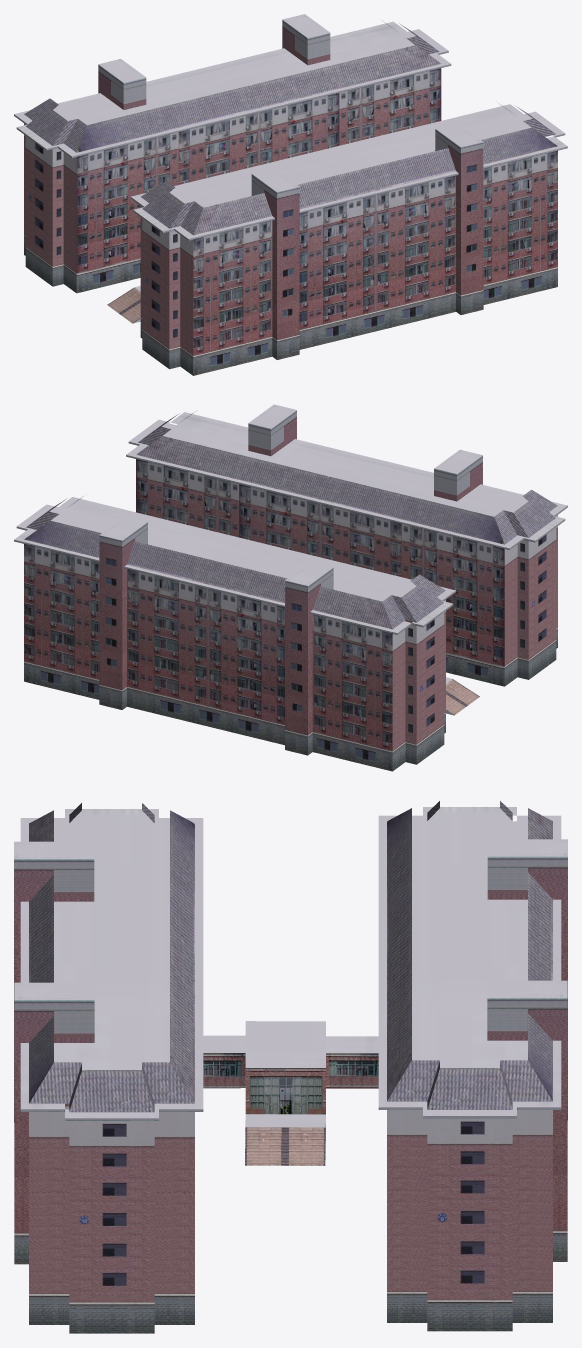
3 renders of one model, top to bottom at view 1: azimuth 30°, elevation 25°; view 2: azimuth 150°, elevation 25°; view 3: azimuth 270°, elevation 25°, orthographic. The views are drawn at different scales.
Visible parts, largest first — view 1: Mesh02#30, Mesh01#28, Mesh05#19, Mesh03#24, Mesh06#17, Mesh07#16, Mesh04#20; view 2: Mesh01#28, Mesh02#30, Mesh06#17, Mesh07#16, Mesh03#24, Mesh05#19, Mesh04#20; view 3: Mesh01#28, Mesh02#30, Mesh04#20, Mesh05#19, Mesh06#17, Mesh03#24, Mesh07#16.
Boxes of the visible parts, box(x1,y1,x2,y2) form: Mesh02#30: box(130, 104, 567, 375); Mesh01#28: box(14, 21, 451, 293); Mesh05#19: box(435, 123, 483, 314); Mesh03#24: box(251, 168, 299, 359); Mesh06#17: box(282, 14, 330, 65); Mesh07#16: box(98, 59, 146, 109); Mesh04#20: box(107, 286, 140, 323); Mesh01#28: box(14, 496, 455, 771); Mesh02#30: box(126, 412, 567, 686); Mesh06#17: box(99, 516, 147, 709); Mesh07#16: box(285, 561, 333, 755); Mesh03#24: box(434, 449, 482, 501); Mesh05#19: box(248, 404, 296, 456); Mesh04#20: box(446, 677, 479, 715); Mesh01#28: box(378, 801, 561, 1331); Mesh02#30: box(20, 803, 203, 1333); Mesh04#20: box(203, 1021, 378, 1165); Mesh05#19: box(14, 982, 94, 1264); Mesh06#17: box(487, 980, 567, 1261); Mesh03#24: box(14, 841, 94, 1122); Mesh07#16: box(487, 839, 567, 1120).
Bounding box in the file's own units: 0.0733 × 0.029 × 0.0551.
1 material, 1 textured.
